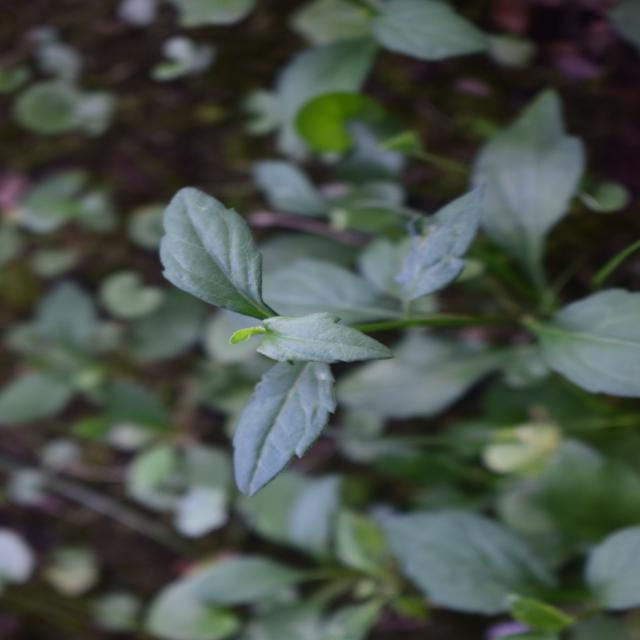Indian aster: (156, 148, 488, 588)
